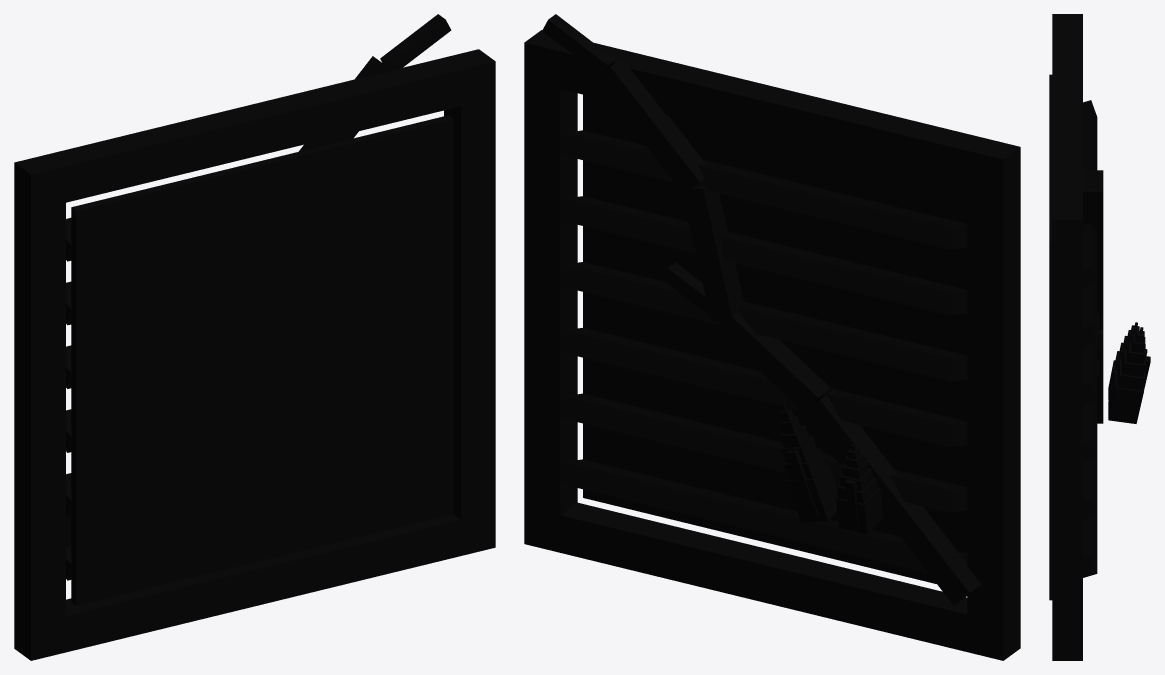
File: lab_vent_eroded.obj
3 views of the same model, side by side, from view 1: azimuth 30°, elevation 25°; view 2: azimuth 150°, elevation 25°; view 3: azimuth 270°, elevation 25° (orthographic). The views are drawn at different scales.
Bounding box in the file's own units: 0.8139 × 0.875 × 0.1691.
